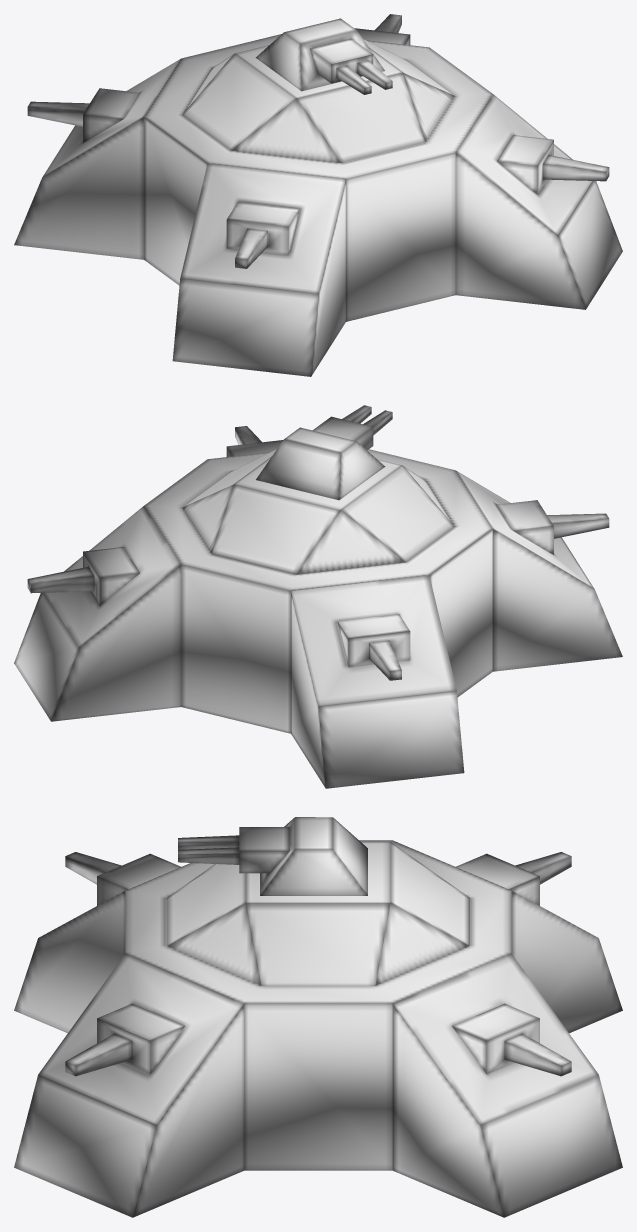
The model's file is Fort-01.fbx.
3 views of the same model, one above another, from view 1: azimuth 30°, elevation 25°; view 2: azimuth 150°, elevation 25°; view 3: azimuth 270°, elevation 25° (orthographic). The views are drawn at different scales.
Visible parts, largest first — view 1: Fort, Fort-Turrett; view 2: Fort, Fort-Turrett; view 3: Fort, Fort-Turrett.
Part boxes in pixels (x1,y1,x2,y2): Fort: (14,14,622,376); Fort-Turrett: (255,18,392,94); Fort: (14,426,622,788); Fort-Turrett: (256,405,392,500); Fort: (14,840,622,1217); Fort-Turrett: (178,817,367,895).
Bounding box in the file's own units: 2 × 0.9266 × 2.
